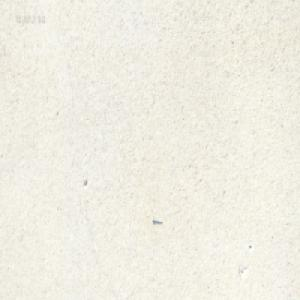Nail: (152, 217, 162, 225)
